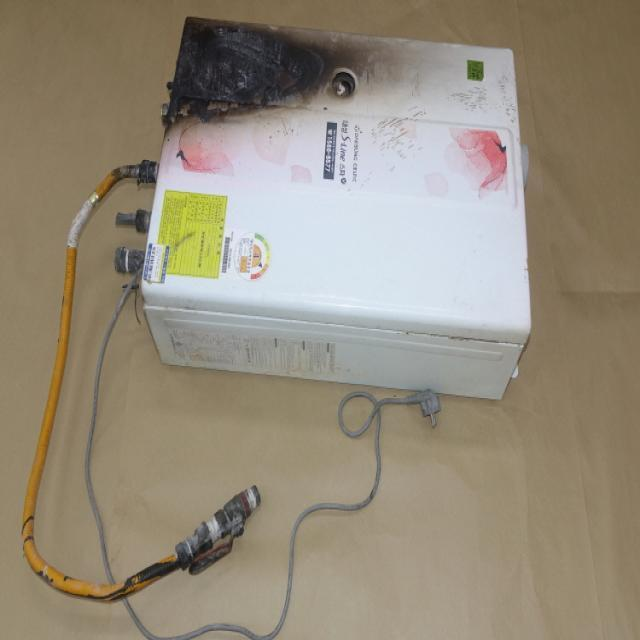Boiler: (138, 21, 554, 386)
